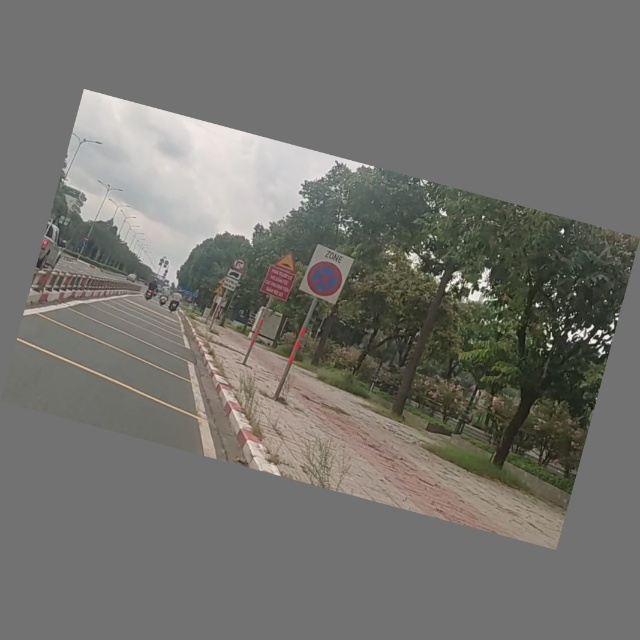P.123b: (231, 257, 247, 273)
P.130: (299, 243, 354, 305)
S.505a*Xe tai: (222, 268, 242, 293)
W.221b: (274, 249, 300, 273)
